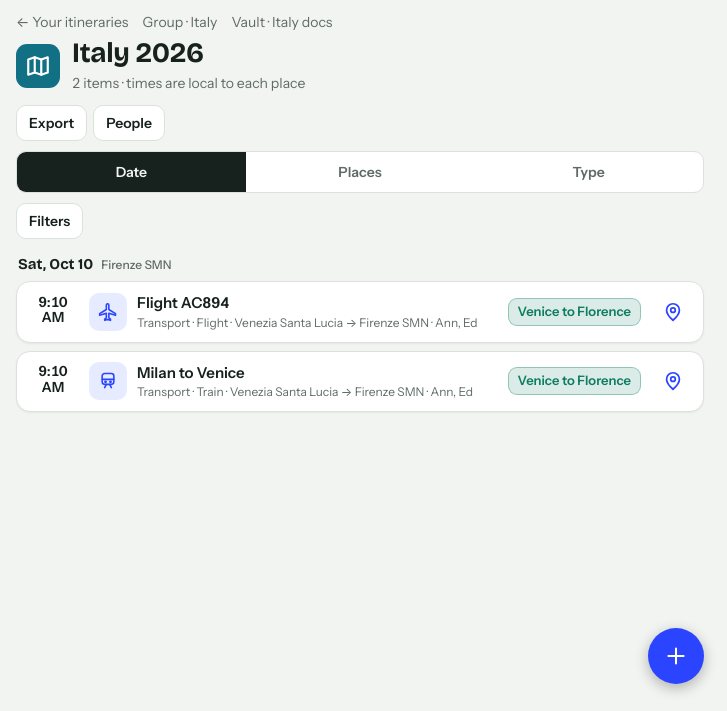
itinerary timeline › under Type, offers subtype chips with All, and filters by them
Click the button "Type". click: {"x": 589, "y": 172}
box: x1=474 y1=152 x2=703 y2=192
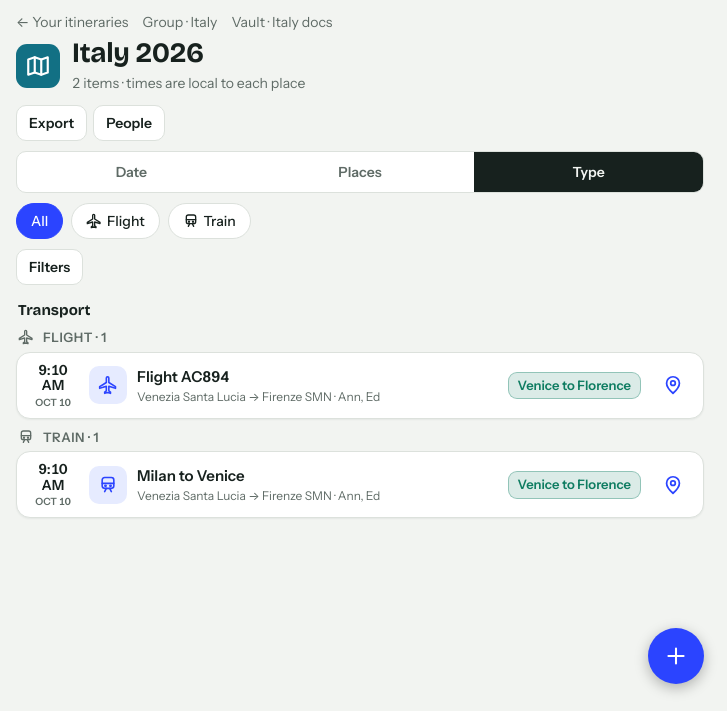
Check: the heading "Flight · 1" is shown, box x1=18 y1=329 x2=107 y2=345
Check: the heading "Train · 1" is shown, box x1=18 y1=429 x2=99 y2=445
Click the button "Train". click: {"x": 209, "y": 221}
box: x1=168 y1=203 x2=251 y2=239
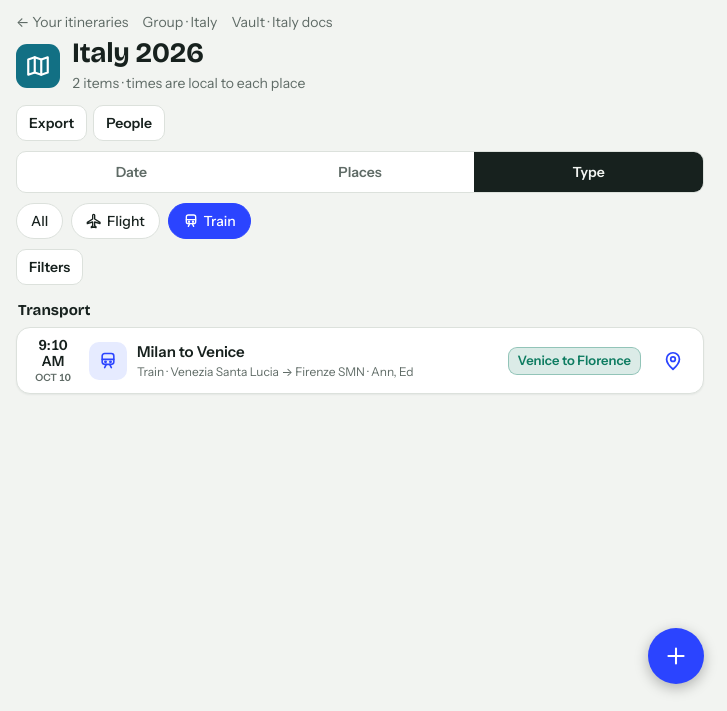
Check: the text "Milan to Venice" is shown, box x1=137 y1=342 x2=245 y2=361
Check: the link "Flight AC894" is gone
Click the button "All". click: {"x": 40, "y": 221}
box: x1=16 y1=203 x2=63 y2=239
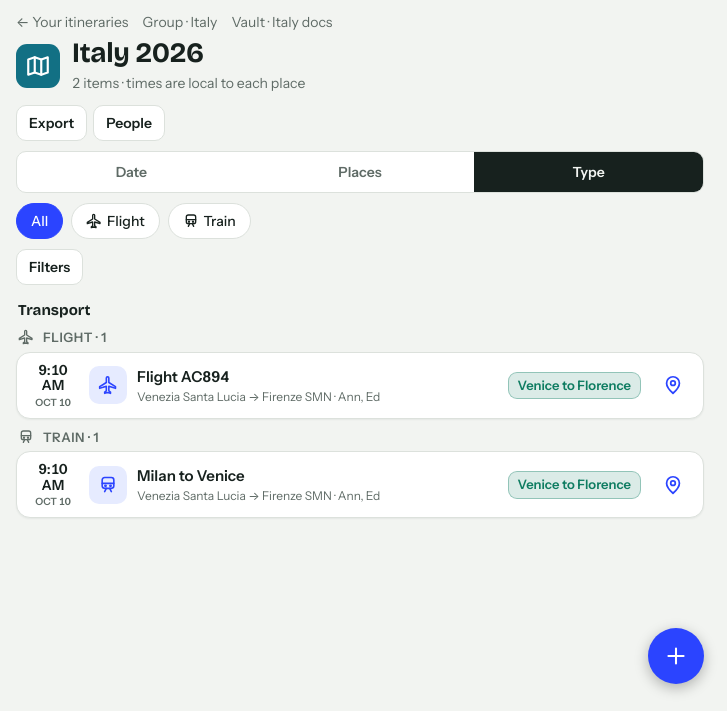
Check: the text "Flight AC894" is shown, box x1=137 y1=367 x2=229 y2=386
